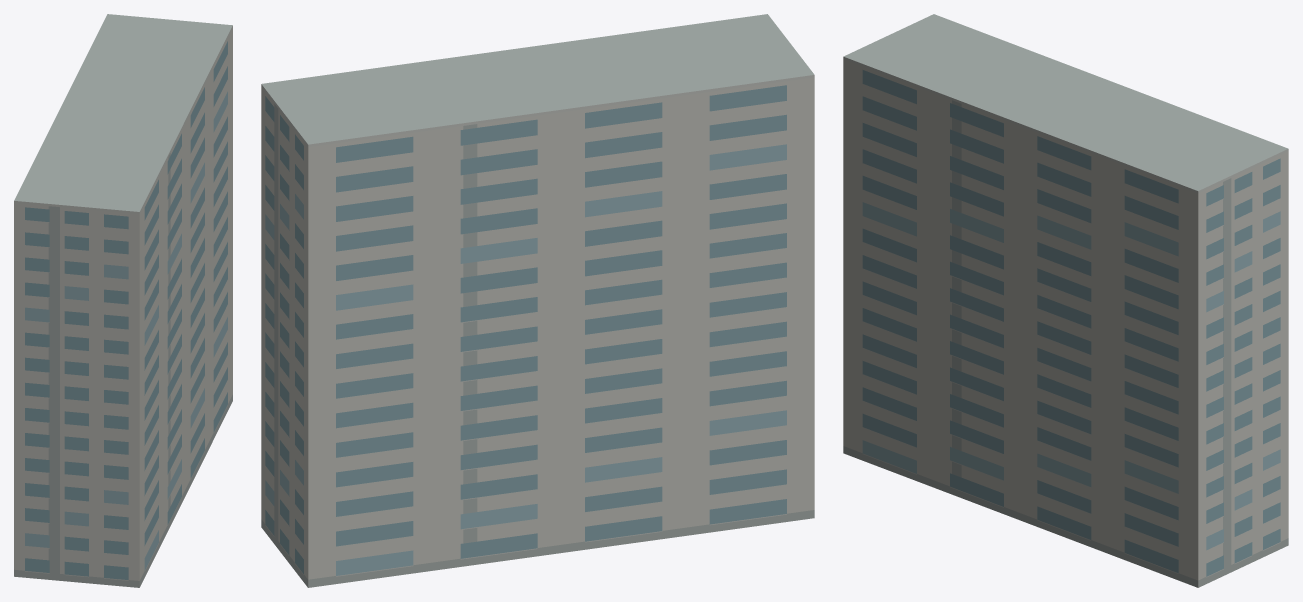
File: residential-f7f6d0f1-5d1a-435d-be02-95d67bed25c8.glb
3 renders of one model, left to right at view 1: azimuth 30°, elevation 25°; view 2: azimuth 150°, elevation 25°; view 3: azimuth 270°, elevation 25°, orthographic. The views are drawn at different scales.
Parts seen in each view (by area): view 1: residential-f7f6d0f1-5d1a-435d-be02-95d67bed25c8.tmp; view 2: residential-f7f6d0f1-5d1a-435d-be02-95d67bed25c8.tmp; view 3: residential-f7f6d0f1-5d1a-435d-be02-95d67bed25c8.tmp.
Part boxes in pixels (x1=…): residential-f7f6d0f1-5d1a-435d-be02-95d67bed25c8.tmp: x1=14, y1=14, x2=232, y2=587; residential-f7f6d0f1-5d1a-435d-be02-95d67bed25c8.tmp: x1=261, y1=14, x2=814, y2=587; residential-f7f6d0f1-5d1a-435d-be02-95d67bed25c8.tmp: x1=843, y1=14, x2=1288, y2=587.
Bounding box in the file's own units: 38.32 × 40 × 40.69.
